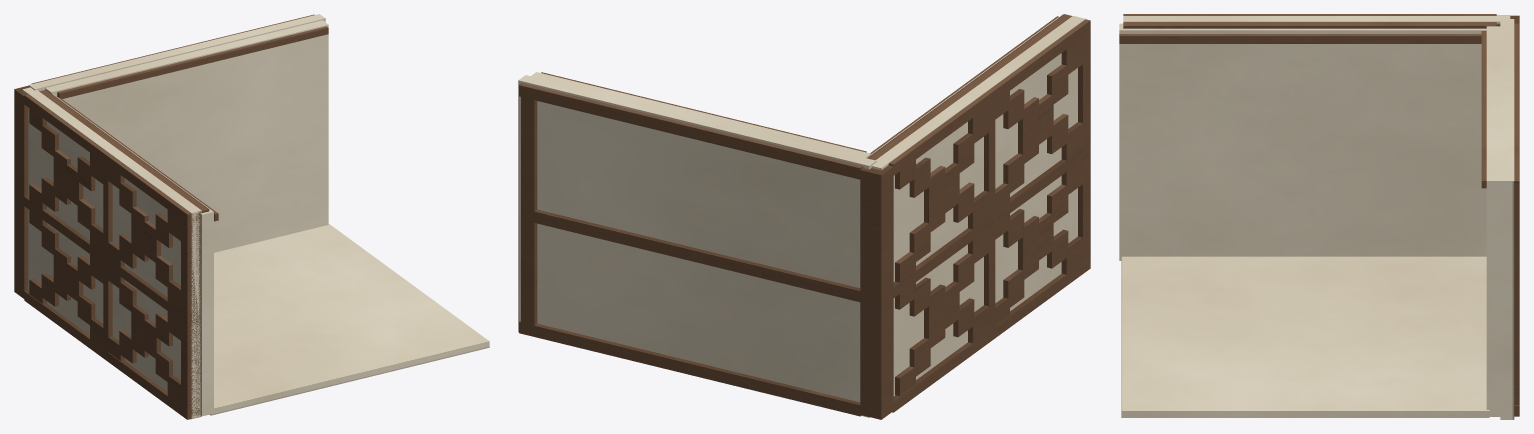
The model's file is med_corner.glb.
3 renders of one model, left to right at view 1: azimuth 30°, elevation 25°; view 2: azimuth 150°, elevation 25°; view 3: azimuth 270°, elevation 25°, orthographic. The views are drawn at different scales.
Parts seen in each view (by area): view 1: med_corner; view 2: med_corner; view 3: med_corner.
Boxes of the visible parts, x1,y1,x2,y2 form: med_corner: (14, 14, 489, 419); med_corner: (518, 14, 1090, 419); med_corner: (1119, 14, 1519, 419).
Size of the model in its own units: 4.08 by 2.68 by 4.08.
Materials: 1 (1 with a texture image).
